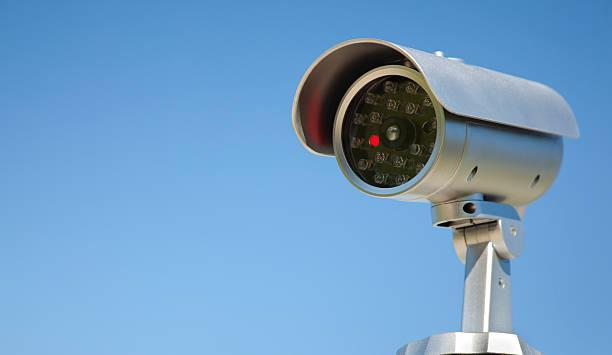camera: (256, 28, 591, 237)
